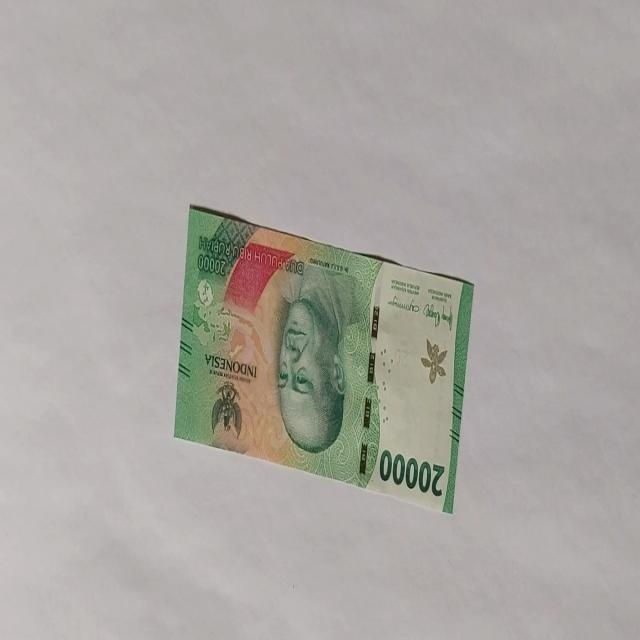dua puluh ribu rupiah: (172, 202, 474, 514), (274, 262, 356, 455)
